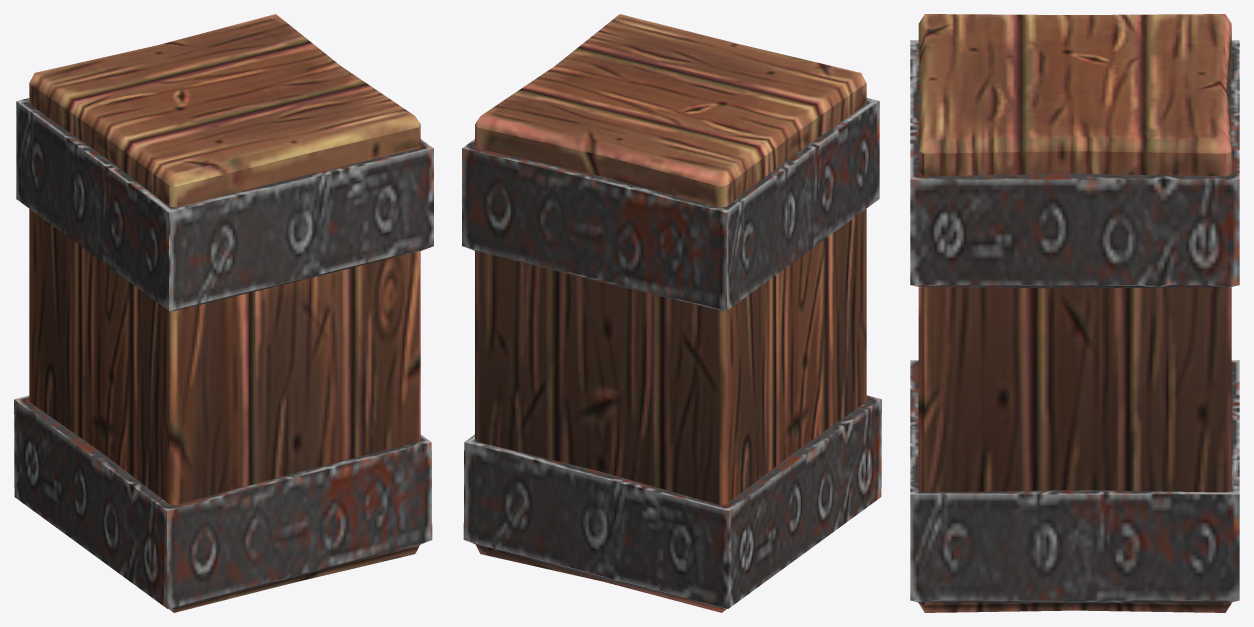
File: prefab_smallcrate02_color01_(1).gltf
3 renders of one model, left to right at view 1: azimuth 30°, elevation 25°; view 2: azimuth 150°, elevation 25°; view 3: azimuth 270°, elevation 25°, orthographic. The views are drawn at different scales.
Visible parts, largest first — view 1: Mod_SmallCrate02; view 2: Mod_SmallCrate02; view 3: Mod_SmallCrate02.
Part boxes in pixels (x1=…): Mod_SmallCrate02: x1=14, y1=14, x2=433, y2=612; Mod_SmallCrate02: x1=462, y1=14, x2=881, y2=612; Mod_SmallCrate02: x1=910, y1=14, x2=1239, y2=612.
Size of the model in its own units: 1.09 by 1.71 by 1.08.
Materials: 1 (1 with a texture image).
